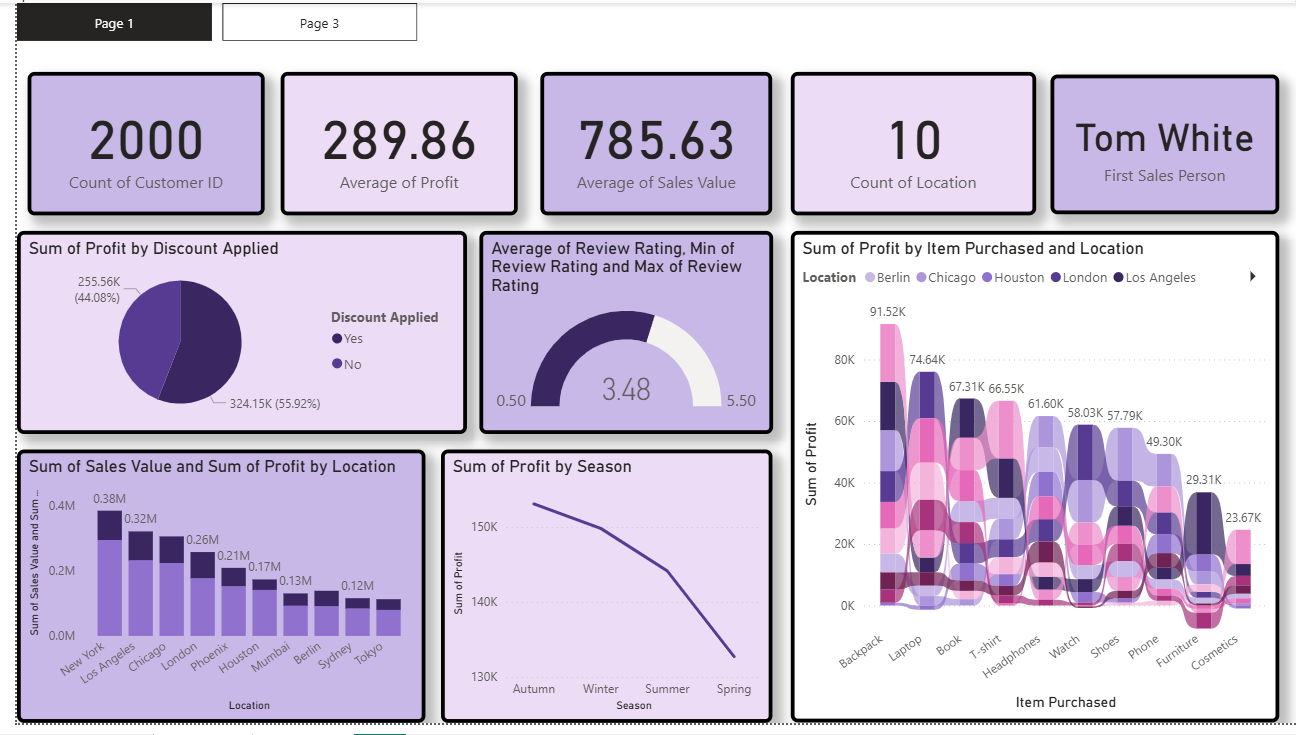

Layout of this report page (visuals, bound fields, positions):
{"tool":"powerbi","page":{"name":"Page 1","canvas":[1280,720],"ordinal":0},"visuals":[{"type":"card","fields":{"Values":["Skewed_Customer_Sales_Data (1).Customer ID"]},"box":[10,68.3,236.7,143.3],"z":0},{"type":"card","fields":{"Values":["Skewed_Customer_Sales_Data (1).Profit"]},"box":[263.3,68.3,236.7,143.3],"z":1000},{"type":"card","fields":{"Values":["Skewed_Customer_Sales_Data (1).Sales Value"]},"box":[523.3,68.3,231.7,143.3],"z":2000},{"type":"pieChart","fields":{"Category":["Skewed_Customer_Sales_Data (1).Discount Applied"],"Y":["Skewed_Customer_Sales_Data (1).Profit"]},"box":[0,228.3,450,203.3],"z":3000},{"type":"pageNavigator","box":[0,0,401.7,38.3],"z":4000},{"type":"gauge","fields":{"Y":["Skewed_Customer_Sales_Data (1).Review Rating"],"MinValue":["Skewed_Customer_Sales_Data (1).Review Rating"],"MaxValue":["Sum(Skewed_Customer_Sales_Data (1).Review Rating)1"]},"box":[461.7,228.3,293.3,203.3],"z":5000},{"type":"lineChart","fields":{"Category":["Skewed_Customer_Sales_Data (1).Season"],"Y":["Skewed_Customer_Sales_Data (1).Profit"]},"box":[423.3,446.7,331.7,273.3],"z":6000},{"type":"columnChart","fields":{"Y":["Skewed_Customer_Sales_Data (1).Sales Value","Skewed_Customer_Sales_Data (1).Profit"],"Category":["Skewed_Customer_Sales_Data (1).Location"]},"box":[0,446.7,408.3,273.3],"z":7000},{"type":"ribbonChart","fields":{"Y":["Skewed_Customer_Sales_Data (1).Profit"],"Category":["Skewed_Customer_Sales_Data (1).Item Purchased"],"Series":["Skewed_Customer_Sales_Data (1).Location"]},"box":[773.3,228.3,488.3,491.7],"z":8000},{"type":"card","fields":{"Values":["Skewed_Customer_Sales_Data (1).Location"]},"box":[773.3,68.3,245,143.3],"z":9000},{"type":"card","fields":{"Values":["Skewed_Customer_Sales_Data (1).Sales Person"]},"box":[1033.3,71.7,228.3,140],"z":10000}]}

Visuals, with their boxes in screenshot pixels (x1, y1, x2, y2):
card - Skewed_Customer_Sales_Data (1).Customer ID: [x1=23, y1=68, x2=260, y2=211]
card - Skewed_Customer_Sales_Data (1).Profit: [x1=276, y1=68, x2=513, y2=211]
card - Skewed_Customer_Sales_Data (1).Sales Value: [x1=536, y1=68, x2=767, y2=211]
pieChart - Skewed_Customer_Sales_Data (1).Discount Applied x Skewed_Customer_Sales_Data (1).Profit: [x1=14, y1=228, x2=463, y2=431]
pageNavigator: [x1=14, y1=0, x2=415, y2=38]
gauge - Skewed_Customer_Sales_Data (1).Review Rating x Skewed_Customer_Sales_Data (1).Review Rating: [x1=475, y1=228, x2=767, y2=431]
lineChart - Skewed_Customer_Sales_Data (1).Season x Skewed_Customer_Sales_Data (1).Profit: [x1=436, y1=446, x2=767, y2=719]
columnChart - Skewed_Customer_Sales_Data (1).Sales Value x Skewed_Customer_Sales_Data (1).Profit: [x1=14, y1=446, x2=421, y2=719]
ribbonChart - Skewed_Customer_Sales_Data (1).Profit x Skewed_Customer_Sales_Data (1).Item Purchased: [x1=786, y1=228, x2=1273, y2=719]
card - Skewed_Customer_Sales_Data (1).Location: [x1=786, y1=68, x2=1030, y2=211]
card - Skewed_Customer_Sales_Data (1).Sales Person: [x1=1045, y1=72, x2=1273, y2=211]
